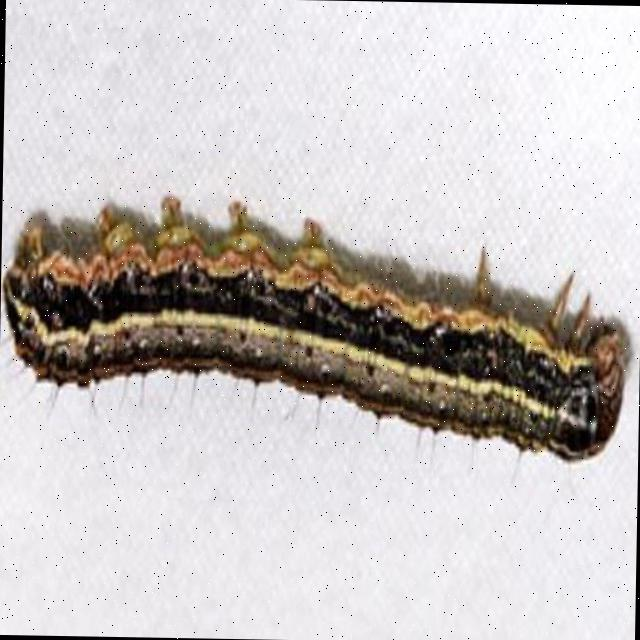worm: (1, 193, 633, 469)
